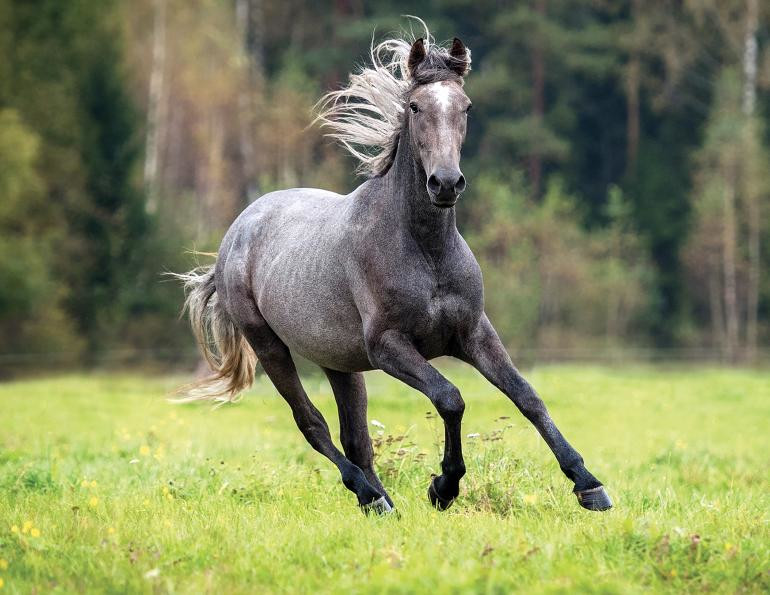horse: (166, 29, 611, 524)
